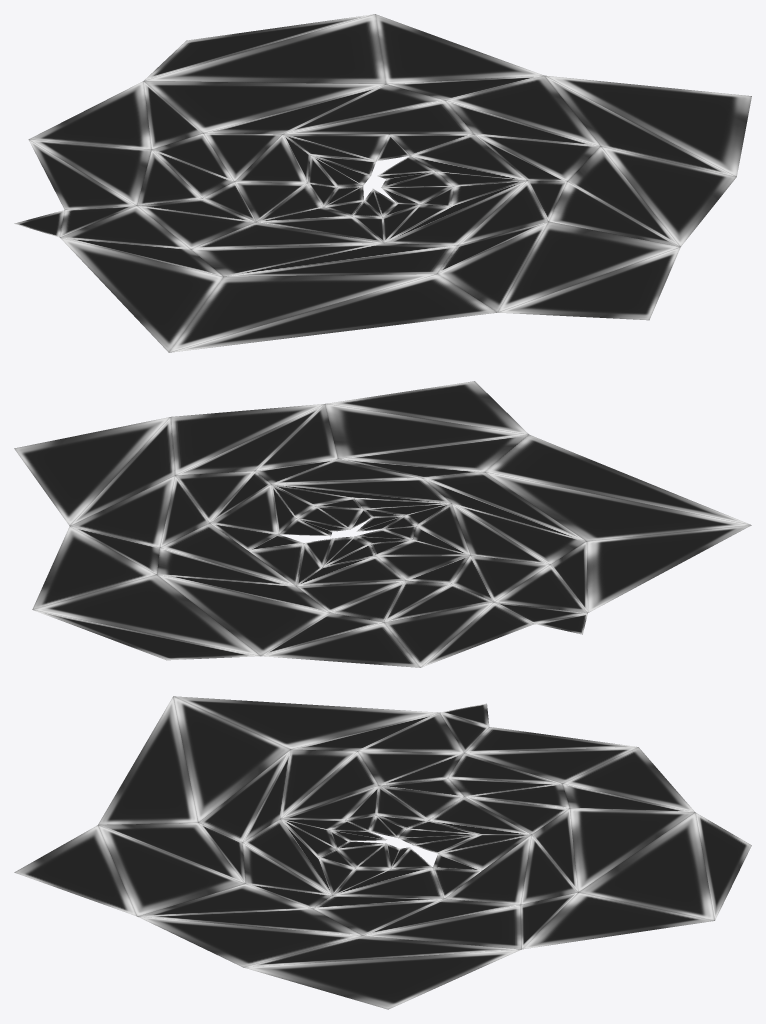
The model's file is FxRing_Flow_3.fbx.
The picture shows the model from 3 angles, top to bottom: view 1: azimuth 30°, elevation 25°; view 2: azimuth 150°, elevation 25°; view 3: azimuth 270°, elevation 25°; orthographic projection. The views are drawn at different scales.
Parts seen in each view (by area): view 1: FxRing_Flow_3; view 2: FxRing_Flow_3; view 3: FxRing_Flow_3.
Part boxes in pixels (x1,y1,x2,y2): FxRing_Flow_3: (14, 14, 751, 352); FxRing_Flow_3: (14, 381, 751, 667); FxRing_Flow_3: (14, 696, 751, 1009).
Size of the model in its own units: 2157 by 0.000194 by 2147.
1 material, 1 textured.
